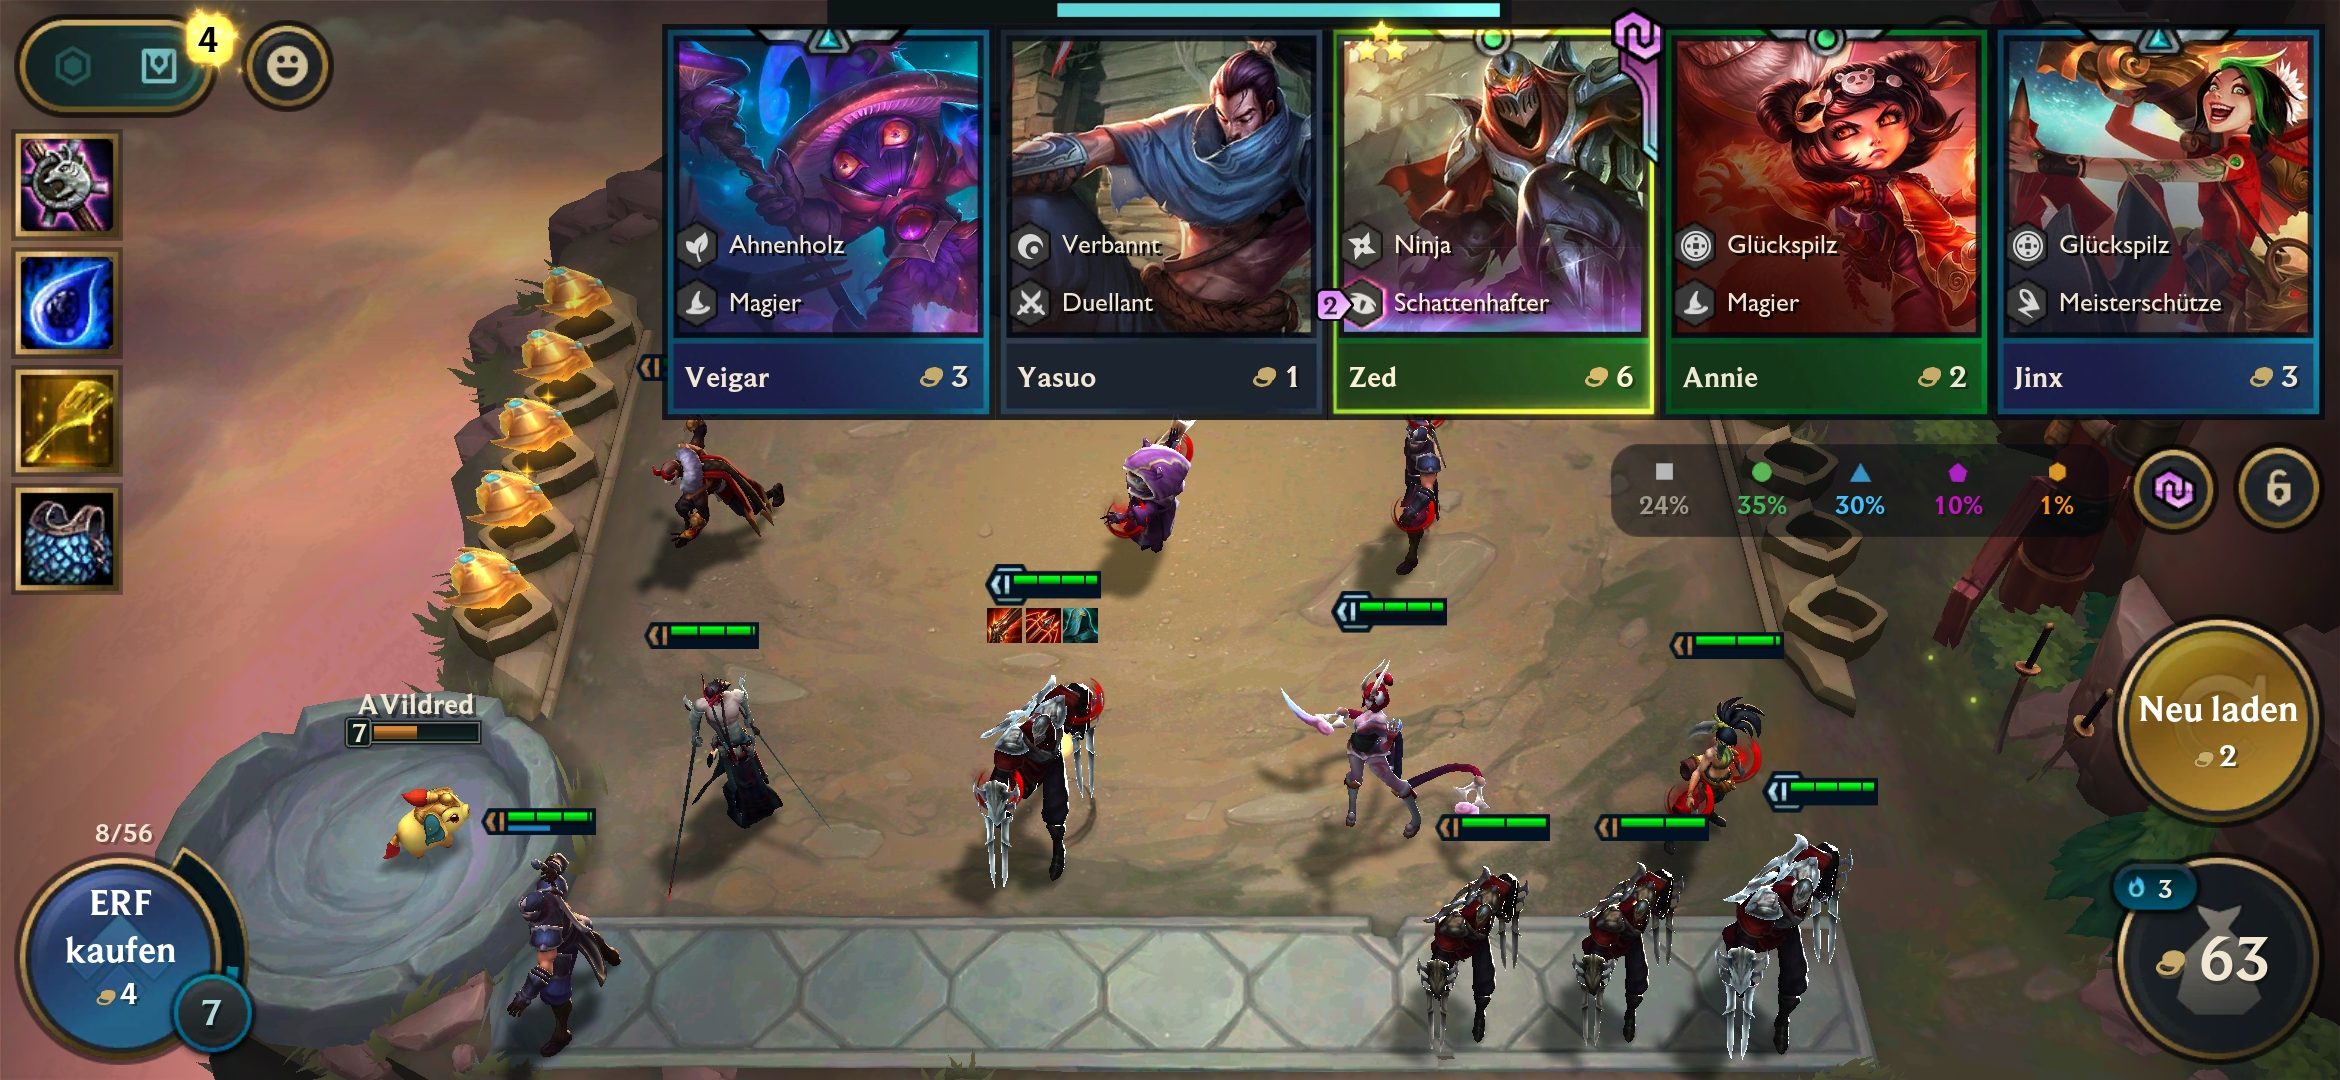1star_akali: (1630, 609, 1807, 894)
1star_shen: (466, 782, 636, 1067)
1star_yone: (630, 591, 834, 910)
1star_zed: (1530, 797, 1721, 1070), (1380, 794, 1568, 1070)
2star_evelynn: (1248, 562, 1516, 882)
2star_zed: (933, 550, 1130, 925), (1677, 761, 1892, 1070)
item_chain: (21, 492, 115, 585)
item_quicksilver: (1060, 600, 1106, 647)
item_rfc: (980, 600, 1031, 650)
item_rod: (21, 139, 113, 233)
item_runaan: (1021, 600, 1069, 650)
item_spatula: (19, 376, 115, 468)
item_tear: (22, 255, 115, 348)
